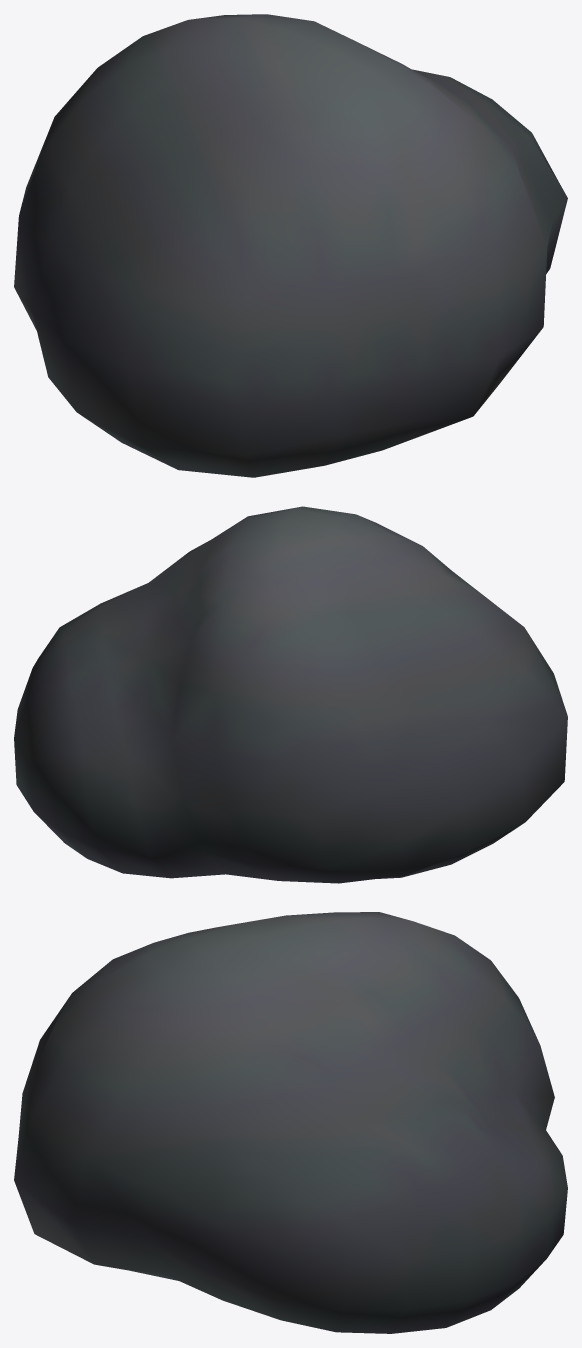
File: M_Environment_StoneS_05.fbx
The picture shows the model from 3 angles, top to bottom: view 1: azimuth 30°, elevation 25°; view 2: azimuth 150°, elevation 25°; view 3: azimuth 270°, elevation 25°; orthographic projection. The views are drawn at different scales.
Parts seen in each view (by area): view 1: M_Environment_StoneS_05; view 2: M_Environment_StoneS_05; view 3: M_Environment_StoneS_05.
Part boxes in pixels (bbox=[...]): M_Environment_StoneS_05: bbox=[14, 14, 567, 477]; M_Environment_StoneS_05: bbox=[14, 506, 567, 883]; M_Environment_StoneS_05: bbox=[14, 912, 567, 1333].
Bounding box in the file's own units: 256 × 166 × 246.
Materials: 1 (1 with a texture image).
